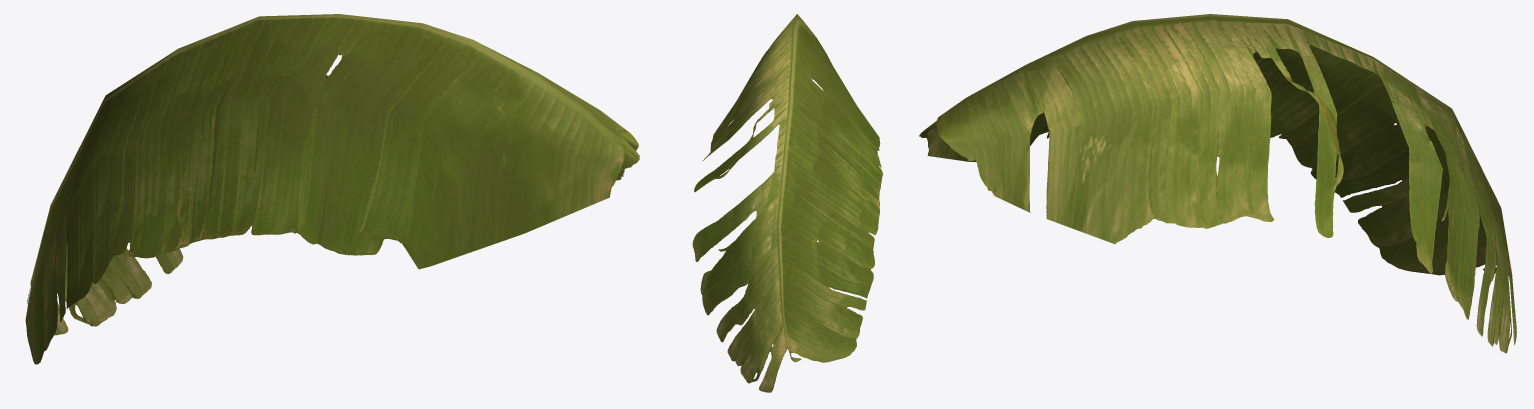
Rendered from Banana_Leaf.fbx.
The picture shows the model from 3 angles, left to right: view 1: azimuth 30°, elevation 25°; view 2: azimuth 150°, elevation 25°; view 3: azimuth 270°, elevation 25°; orthographic projection. The views are drawn at different scales.
Parts seen in each view (by area): view 1: pasted__Tree_5; view 2: pasted__Tree_5; view 3: pasted__Tree_5.
Part boxes in pixels (box(x1,y1,x2,y2)): pasted__Tree_5: box(25, 14, 639, 364); pasted__Tree_5: box(692, 14, 882, 392); pasted__Tree_5: box(919, 14, 1516, 353).
Size of the model in its own units: 59.93 by 67.61 by 90.78.
